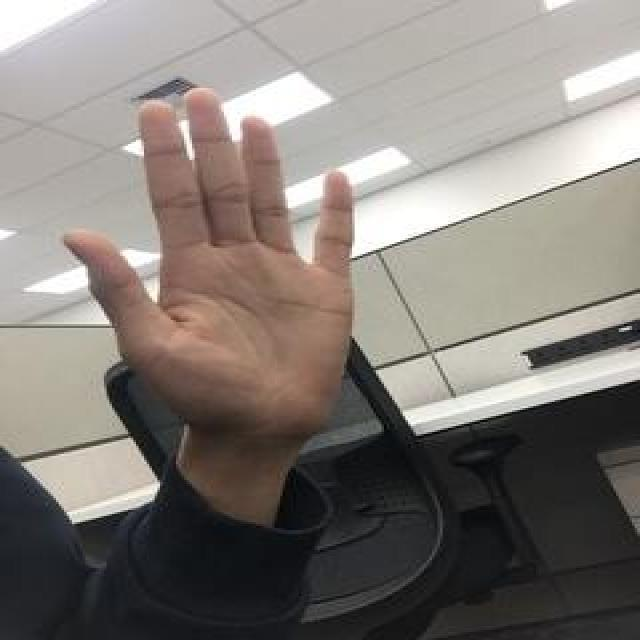hand: (54, 88, 366, 434)
